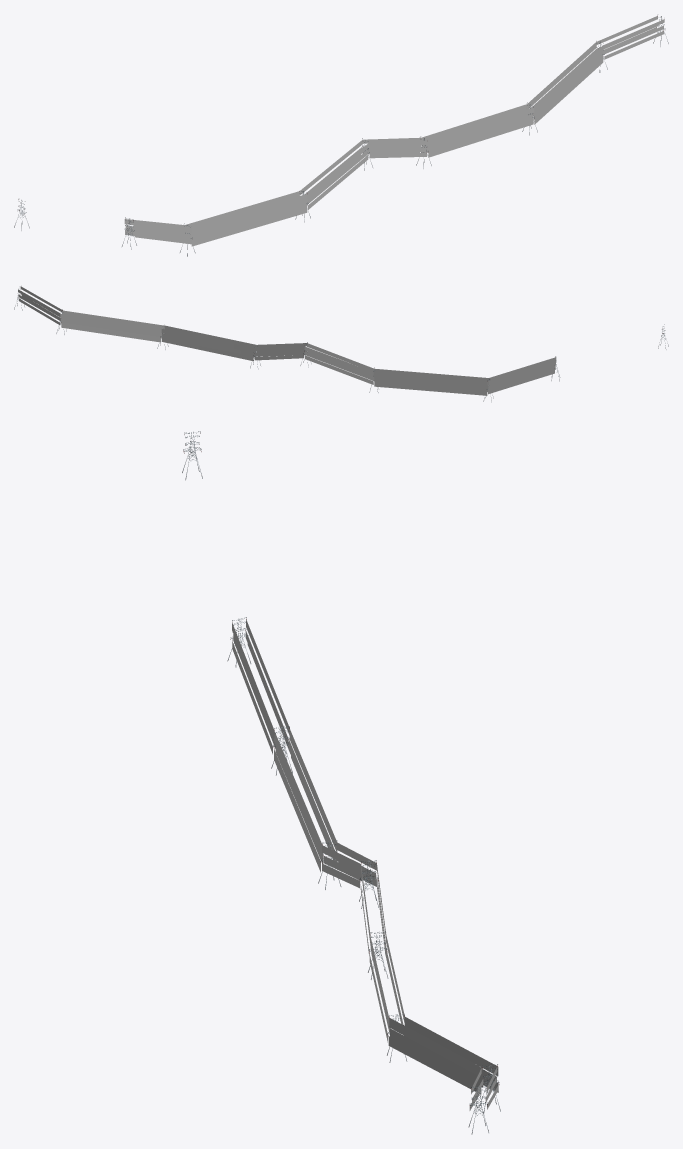
Rendered from electricalTower_set.fbx.
3 renders of one model, top to bottom at view 1: azimuth 30°, elevation 25°; view 2: azimuth 150°, elevation 25°; view 3: azimuth 270°, elevation 25°, orthographic. The views are drawn at different scales.
Parts seen in each view (by area): view 1: Wires, Towers; view 2: Wires, Towers; view 3: Wires, Towers.
Part boxes in pixels (x1,y1,x2,y2): Wires: (124,16,664,246); Towers: (14,15,668,256); Wires: (18,286,556,395); Towers: (14,289,668,402); Wires: (232,619,498,1110); Towers: (182,431,500,1134).
Bounding box in the file's own units: 1088 × 183 × 259.
